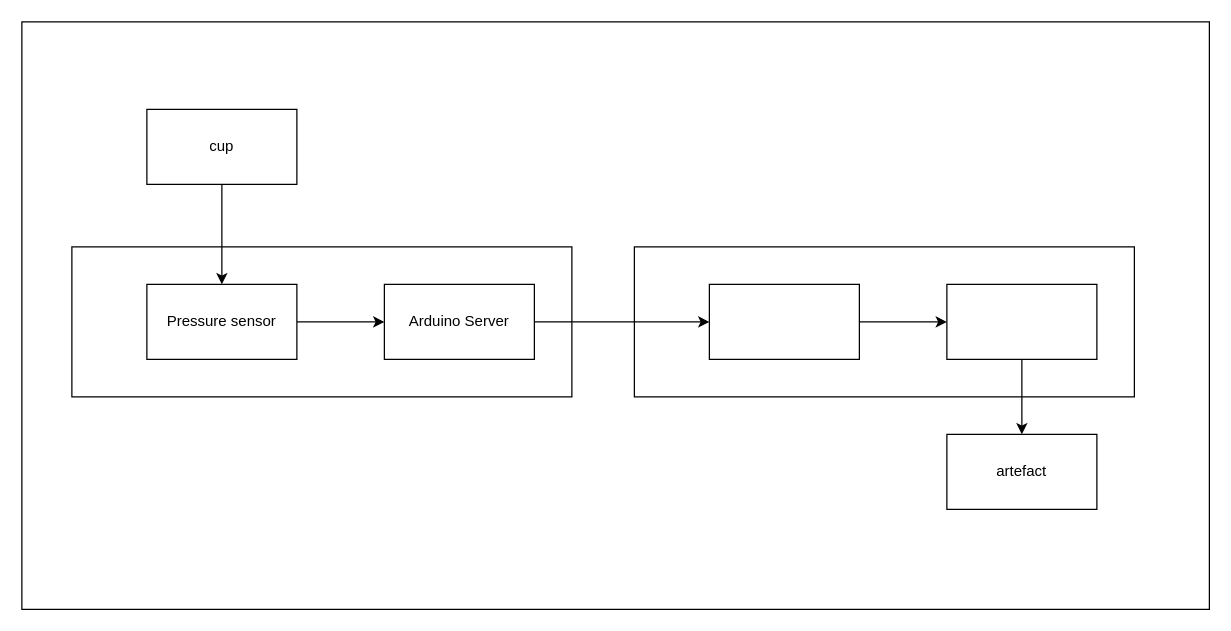
This 1231x631 diagram has some shape labels left out. The centre of each missing label's shape, as x and y in pixels:
Arduino Client: (783,321)
Grove motor shield: (1021,321)
